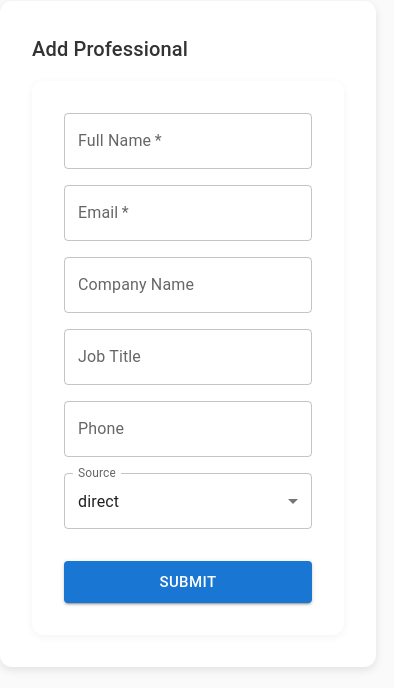
Test: ProfessionalForm › updates source dropdown when selected
The width and height of the screenshot is (394, 688).
Click the dropdown named "source". click: (99, 501)
box: [78,492,119,510]
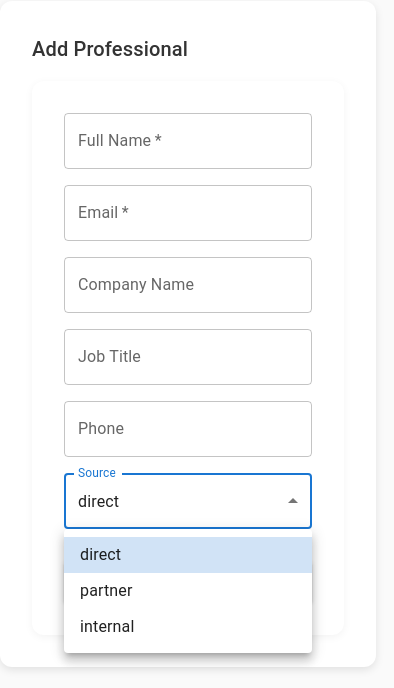
Click the option "partner". click: (106, 590)
box: [80,581,132,600]
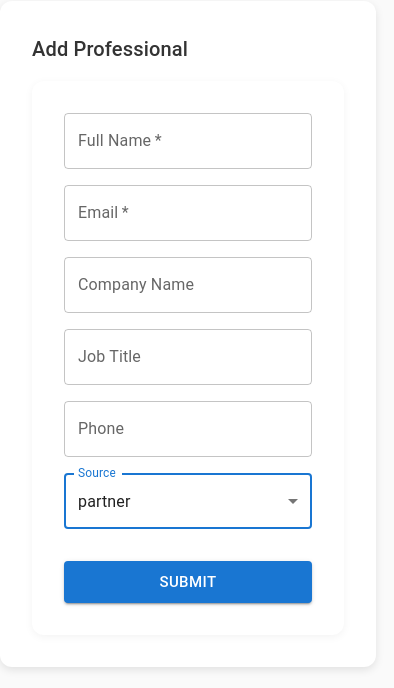
Expected: the dropdown named "source" reads "partner", [78,492,130,510]
